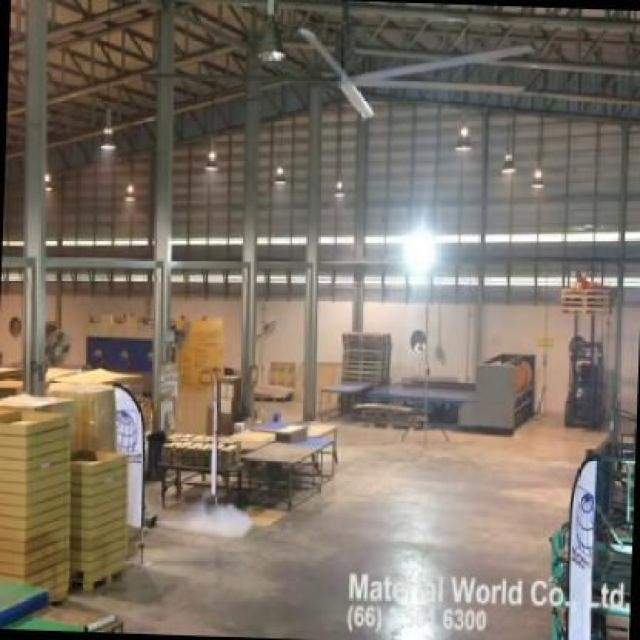fire: (178, 496, 264, 546)
